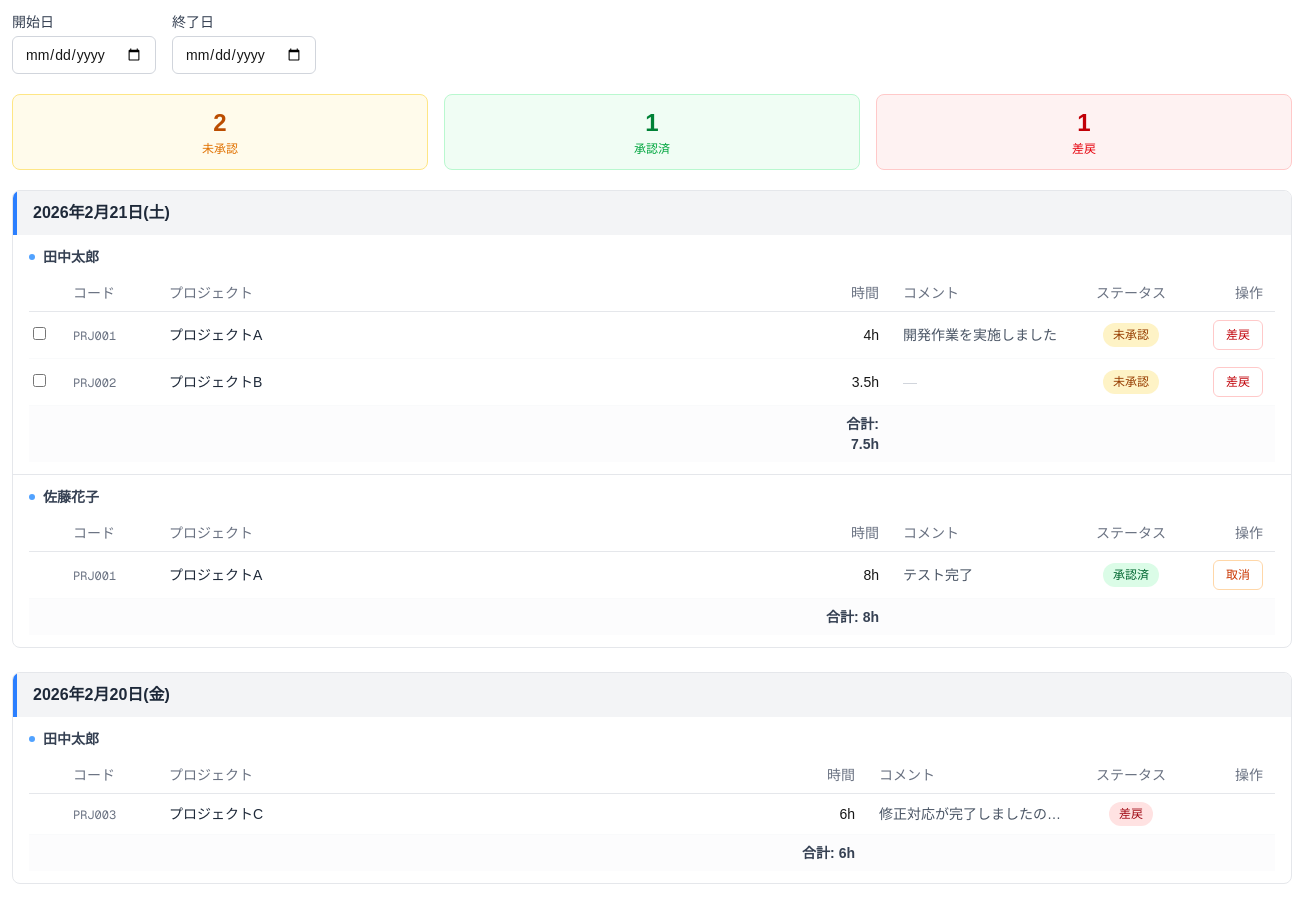
Test: DailyApprovalDashboard › Floating Error Bar › dismisses error when close button is clicked
Click the 1st checkbox at {"x": 40, "y": 334}, box [33,327,46,340]
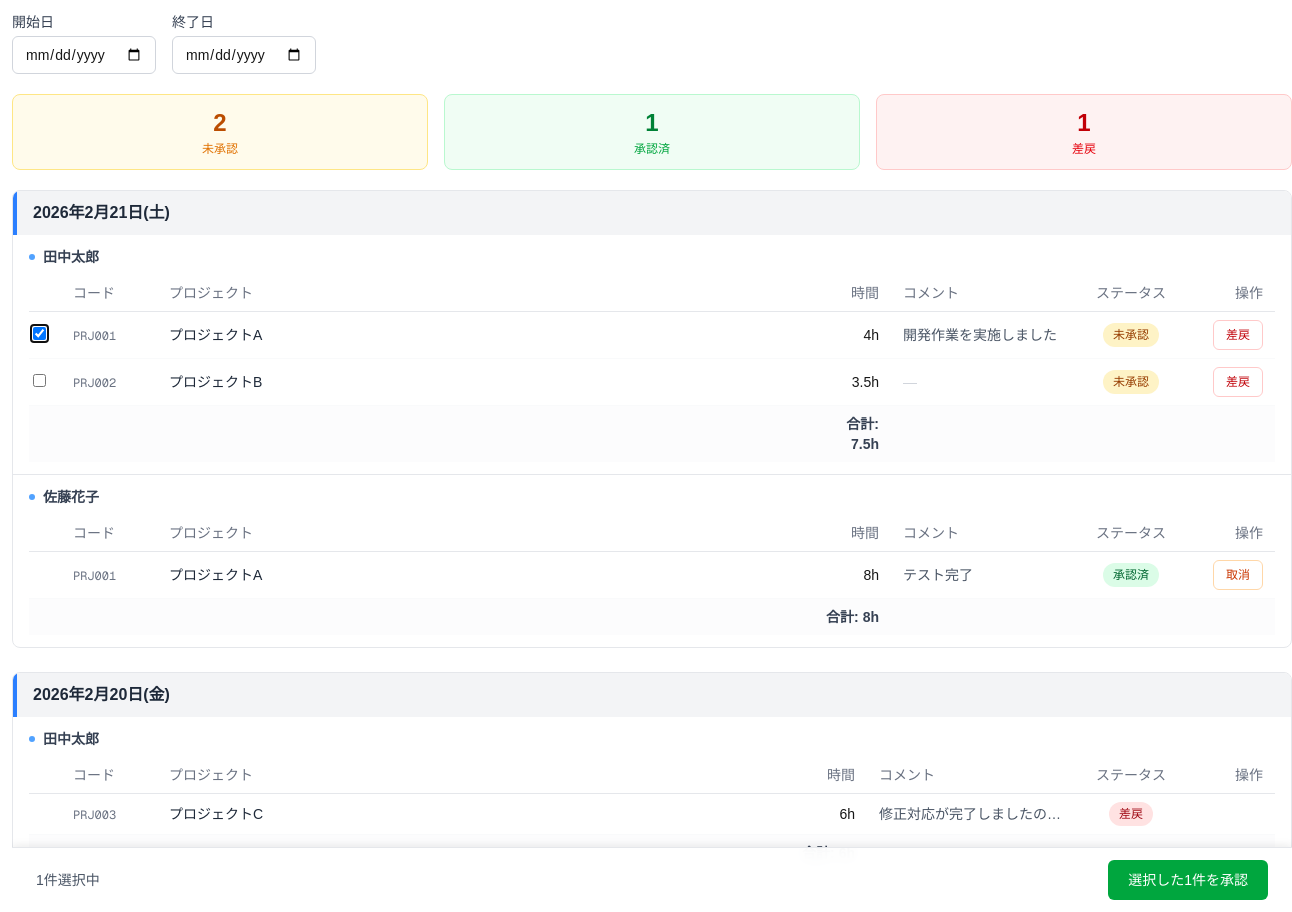
Click the button "選択した1件を承認" at {"x": 1188, "y": 880}, box [1108,860,1268,900]
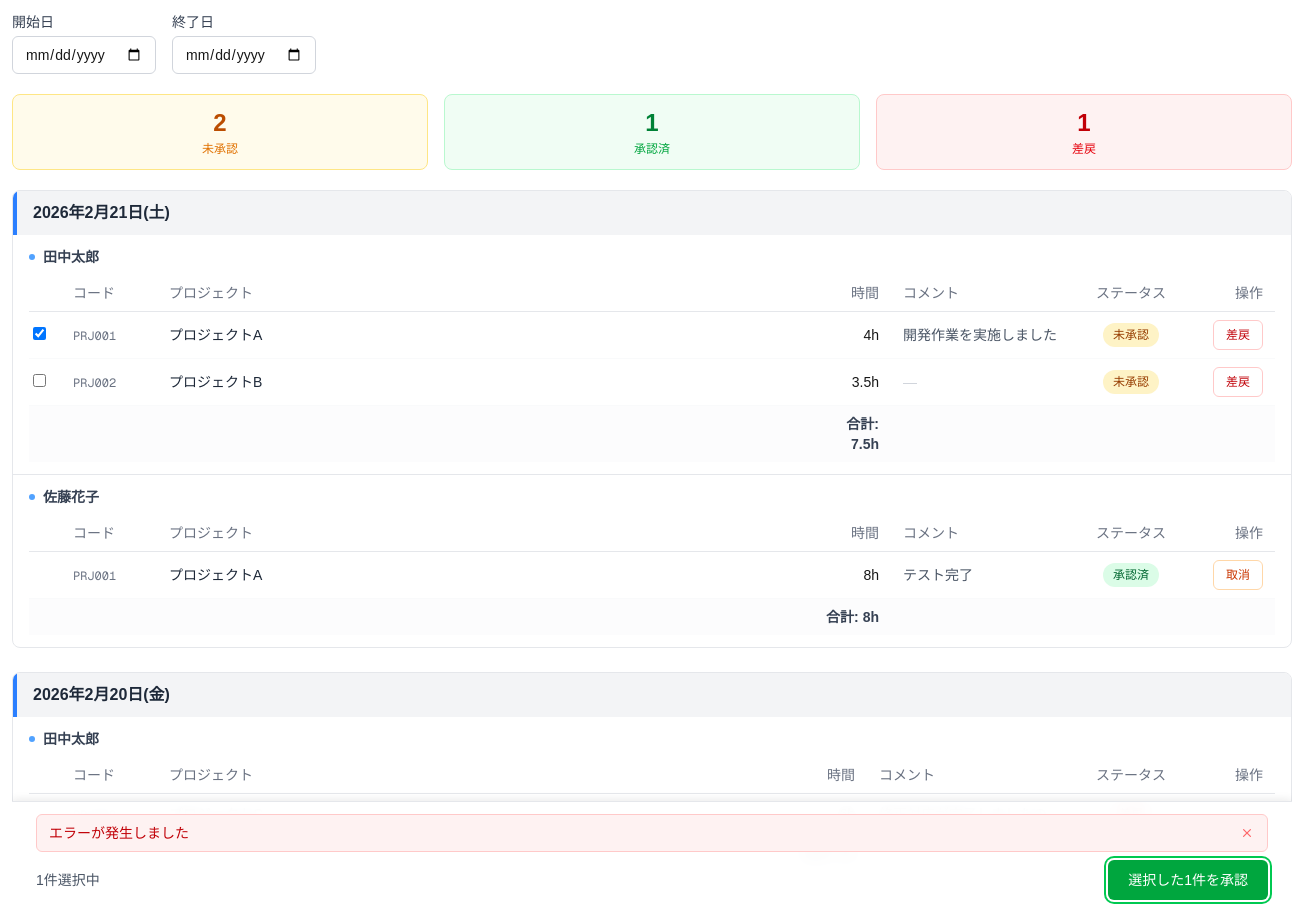
Expected: the message "エラーが発生しました" is shown, [36,814,1268,852]
Click the button named "エラーを閉じる" at {"x": 1247, "y": 833}, box [1239,825,1255,841]
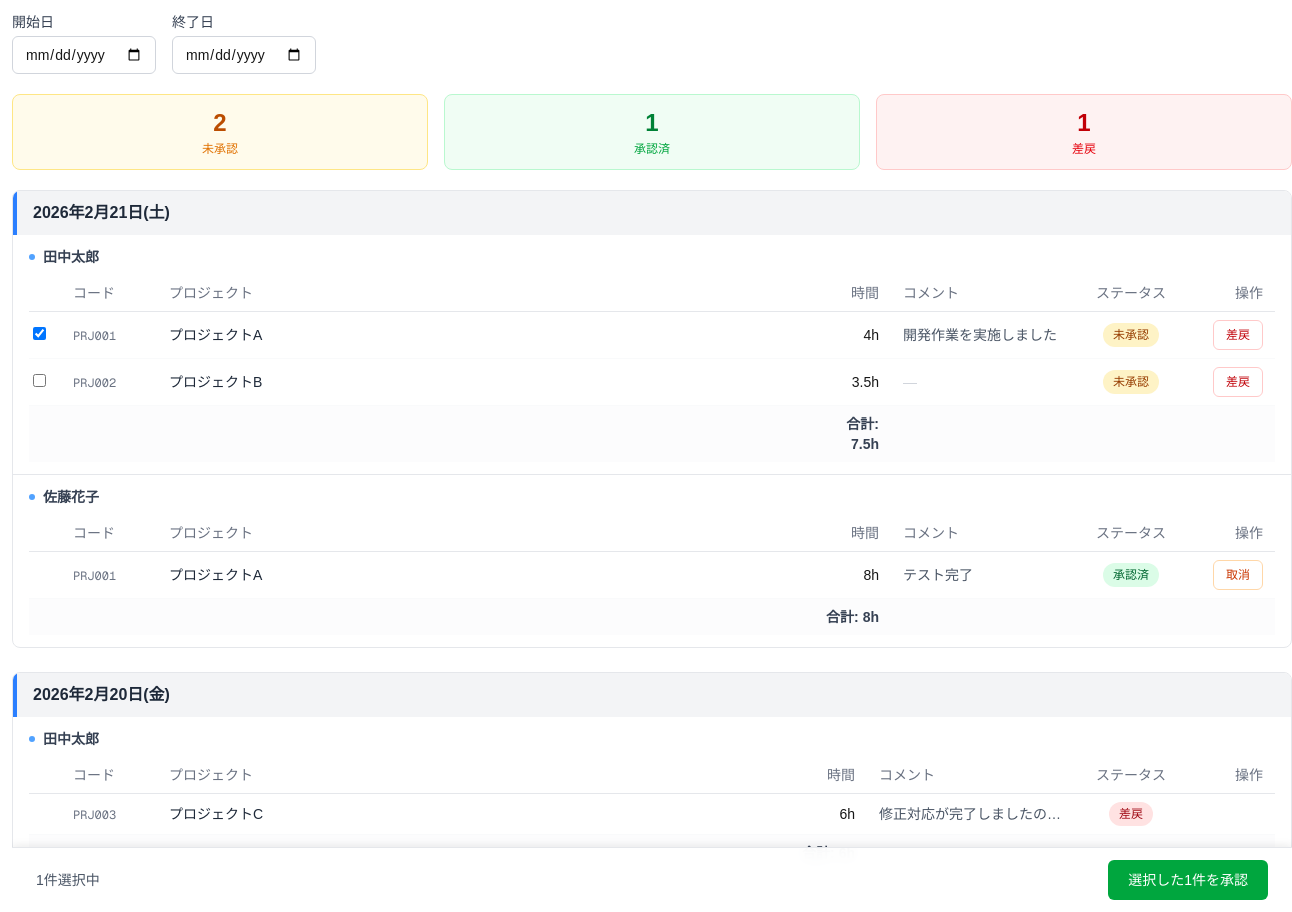
Expected: the message "エラーが発生しました" is gone
